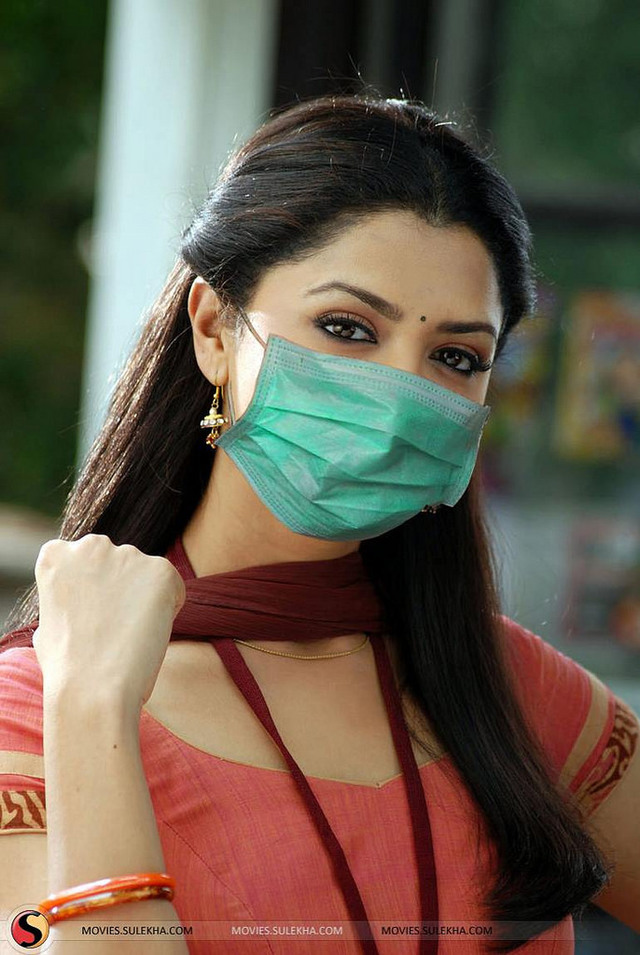mask: (257, 385, 478, 534)
